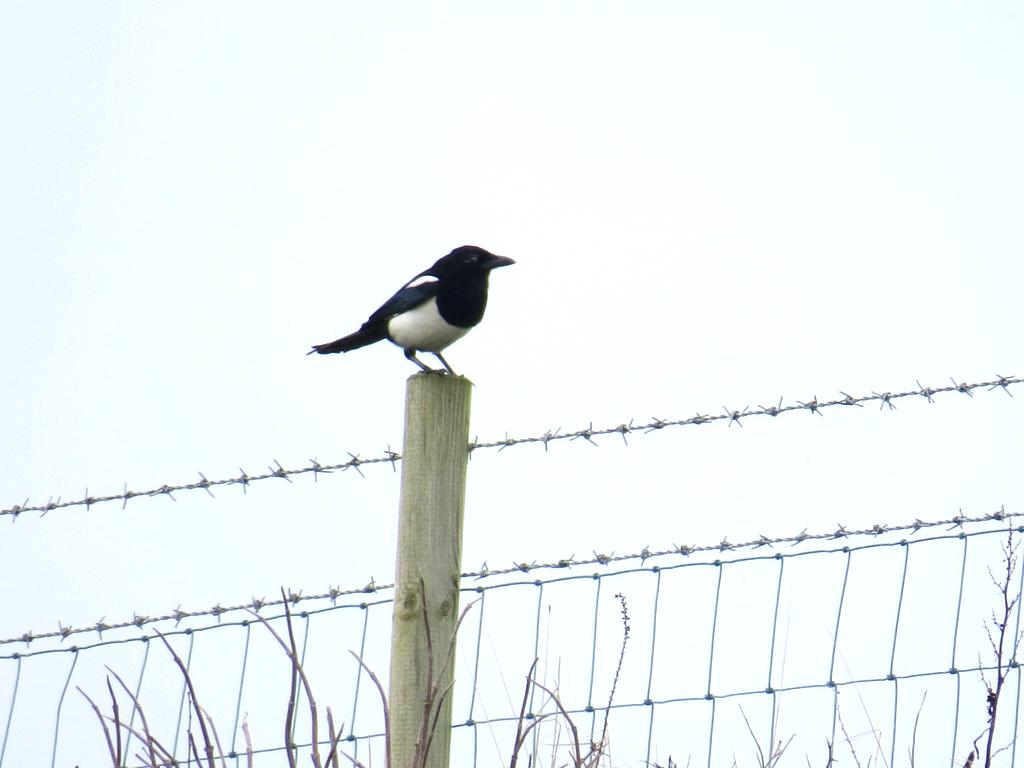PicaPica: (304, 244, 516, 388)
